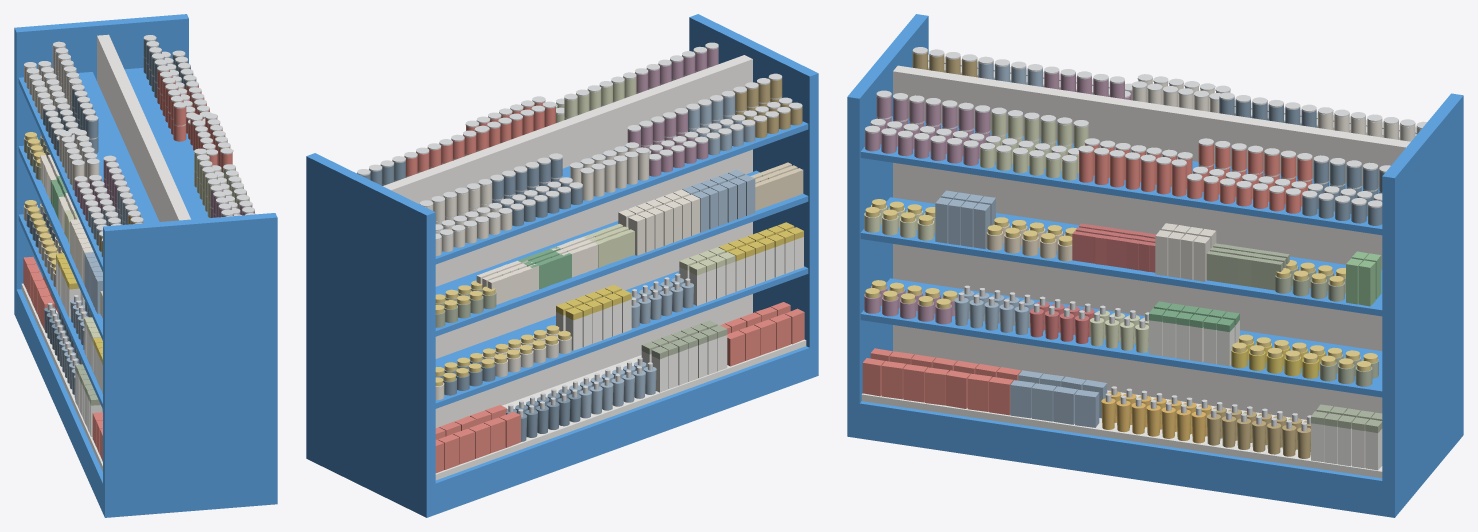
File: minimarket_rack_stocked_blue.glb
3 renders of one model, left to right at view 1: azimuth 30°, elevation 25°; view 2: azimuth 150°, elevation 25°; view 3: azimuth 270°, elevation 25°, orthographic. The views are drawn at different scales.
Parts seen in each view (by area): view 1: upright_L, Goods, upright_R, plinth, spine, shelf_back_2, shelf_front_2, shelf_back_1, shelf_back_0, deck_base; view 2: Goods, upright_R, spine, plinth, upright_L, shelf_back_0, shelf_back_1, deck_base, shelf_back_2; view 3: Goods, spine, upright_R, plinth, upright_L, shelf_front_0, shelf_front_1, shelf_front_2, deck_base.
Part boxes in pixels (x1=…): upright_L: x1=103, y1=213, x2=277, y2=515; Goods: x1=23, y1=35, x2=255, y2=461; upright_R: x1=14, y1=14, x2=188, y2=316; plinth: x1=14, y1=286, x2=277, y2=517; spine: x1=97, y1=34, x2=190, y2=221; shelf_back_2: x1=18, y1=72, x2=159, y2=271; shelf_front_2: x1=124, y1=67, x2=209, y2=219; shelf_back_1: x1=18, y1=145, x2=102, y2=340; shelf_back_0: x1=18, y1=214, x2=102, y2=408; deck_base: x1=21, y1=283, x2=102, y2=471; Goods: x1=357, y1=42, x2=804, y2=473; upright_R: x1=306, y1=153, x2=435, y2=517; spine: x1=383, y1=55, x2=752, y2=427; plinth: x1=306, y1=345, x2=818, y2=517; upright_L: x1=689, y1=14, x2=818, y2=377; shelf_back_0: x1=435, y1=266, x2=808, y2=408; shelf_back_1: x1=435, y1=170, x2=808, y2=336; deck_base: x1=435, y1=339, x2=806, y2=480; shelf_back_2: x1=435, y1=121, x2=808, y2=264; Goods: x1=862, y1=47, x2=1426, y2=470; spine: x1=893, y1=65, x2=1410, y2=419; upright_R: x1=1382, y1=93, x2=1463, y2=517; plinth: x1=847, y1=400, x2=1463, y2=517; upright_L: x1=847, y1=14, x2=928, y2=438; shelf_front_0: x1=860, y1=278, x2=1382, y2=397; shelf_front_1: x1=860, y1=197, x2=1382, y2=316; shelf_front_2: x1=860, y1=116, x2=1382, y2=235; deck_base: x1=861, y1=390, x2=1382, y2=478.
Size of the model in its own units: 1.61 by 1.55 by 2.55.
